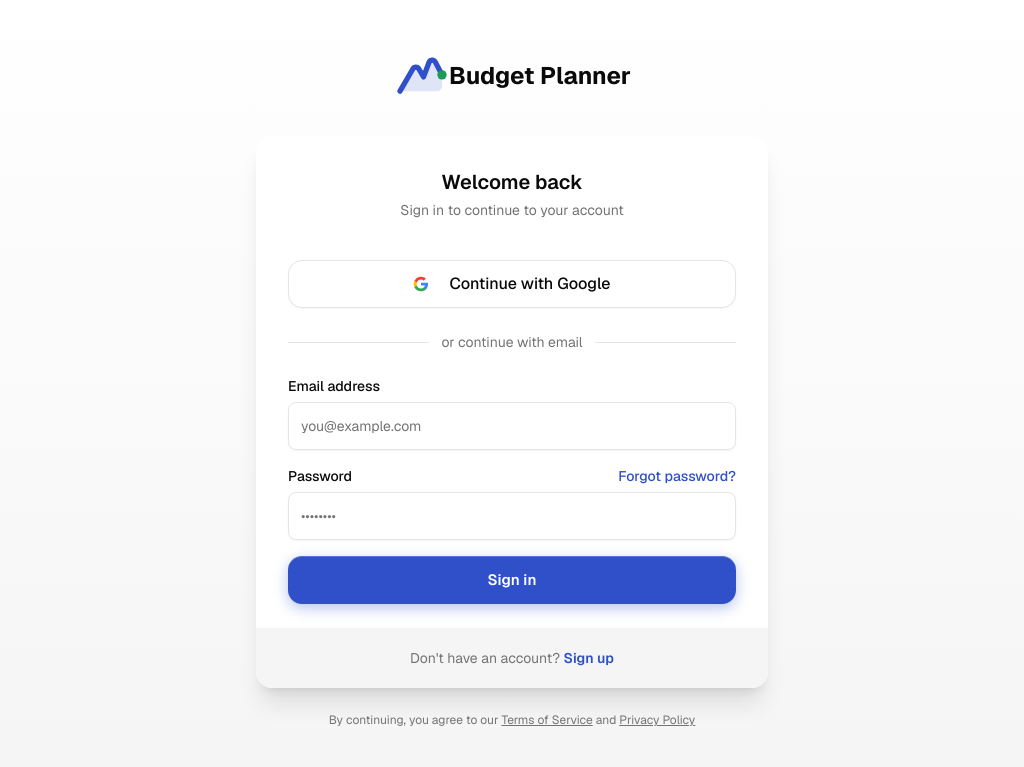
Test case: LoginPage — email signup (handleSubmit, signup mode) › signs up with trimmed names and shows the confirmation message
Click the button "Sign up" at {"x": 589, "y": 658}, box [564, 648, 614, 668]
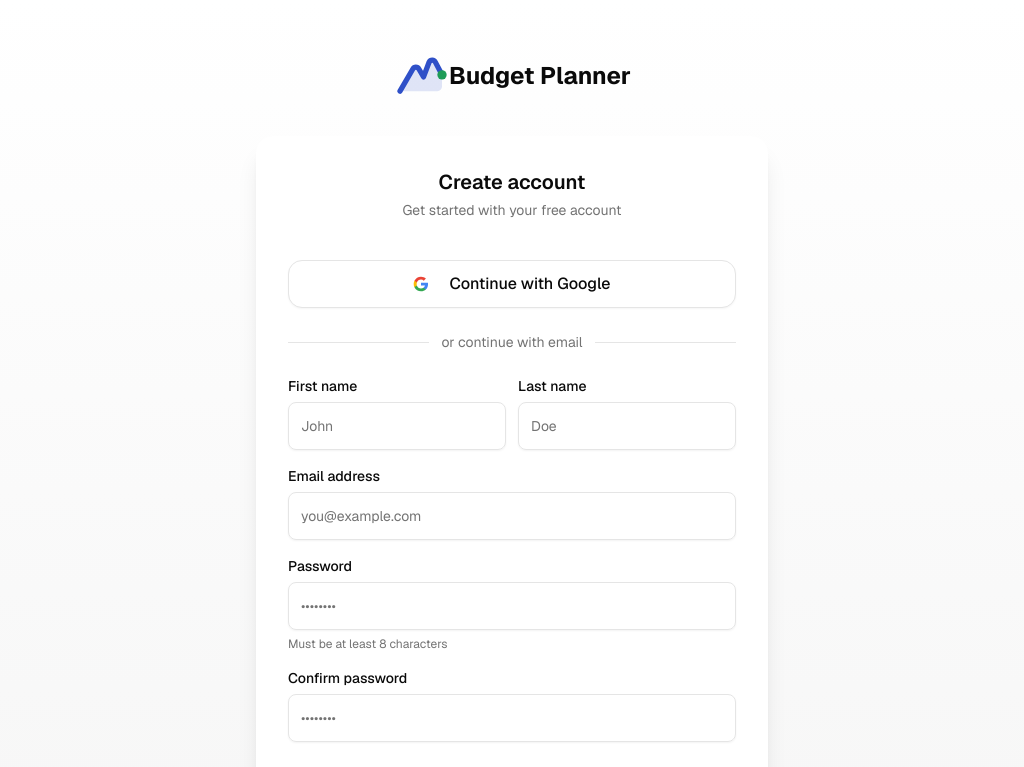
Type "  John  " into the field labelled "First name" at {"x": 397, "y": 426}, box [288, 402, 506, 450]
Type "  Doe  " into the field labelled "Last name" at {"x": 627, "y": 426}, box [518, 402, 736, 450]
Type "john@example.com" into the field labelled "Email address" at {"x": 512, "y": 516}, box [288, 492, 736, 540]
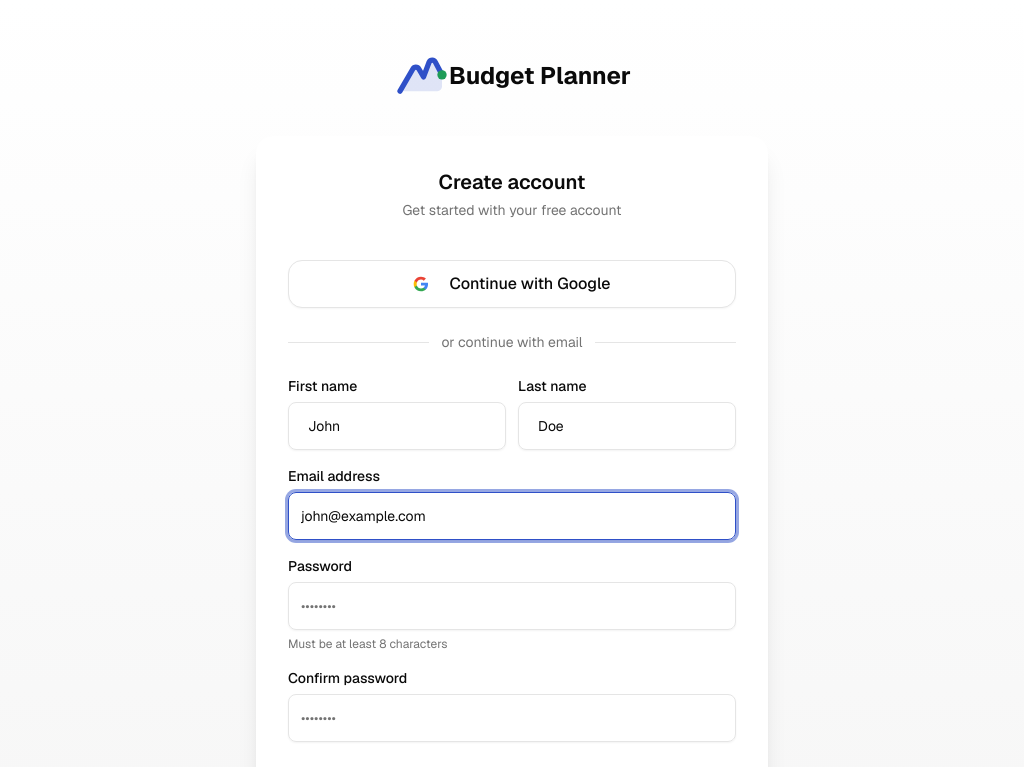
Type "password123" into the password field labelled "Password" at {"x": 512, "y": 606}, box [288, 582, 736, 630]
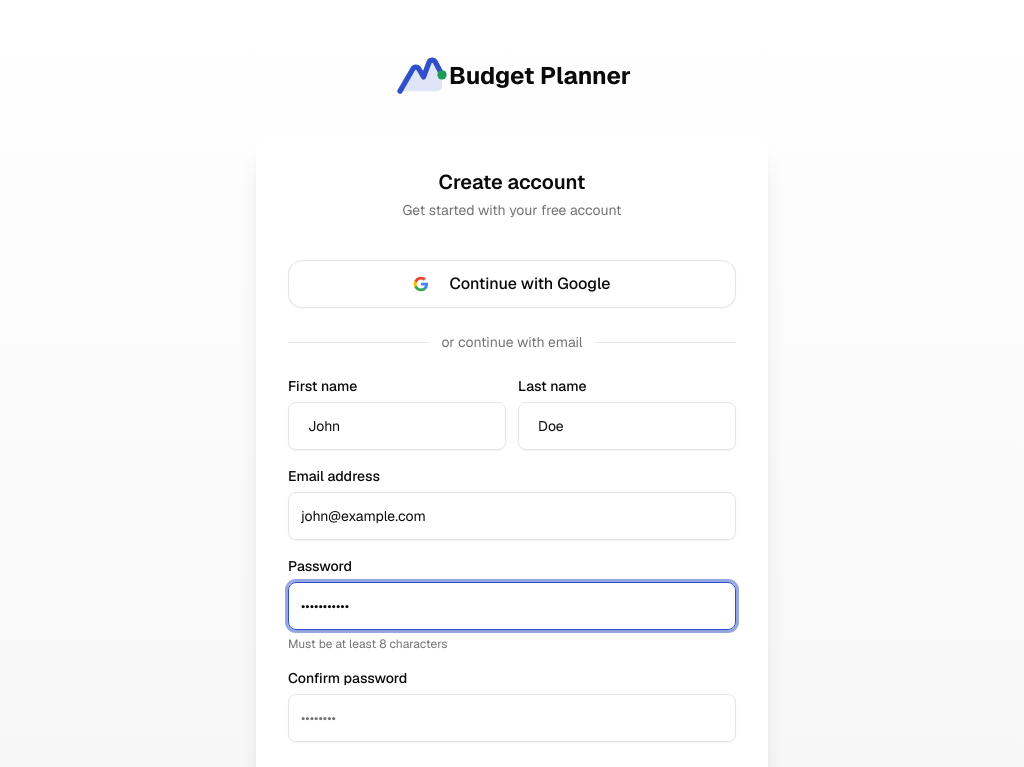
Type "password123" into the password field labelled "Confirm password" at {"x": 512, "y": 718}, box [288, 694, 736, 742]
(page scrolled)
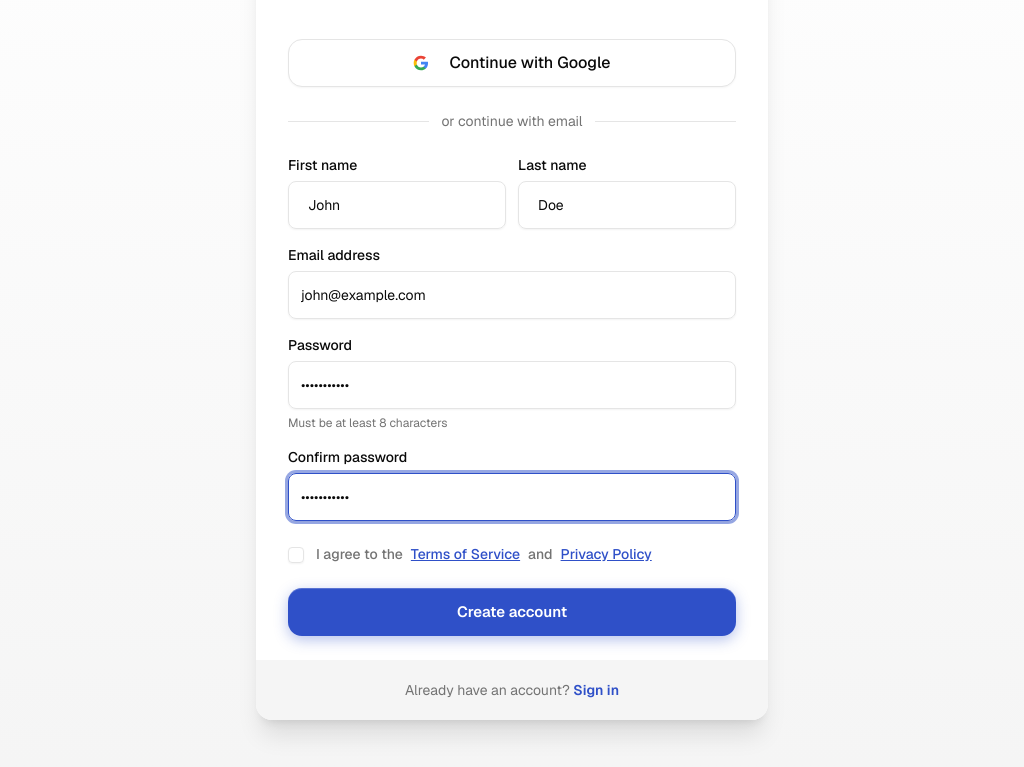
Click the checkbox at {"x": 296, "y": 555}, box [288, 547, 304, 563]
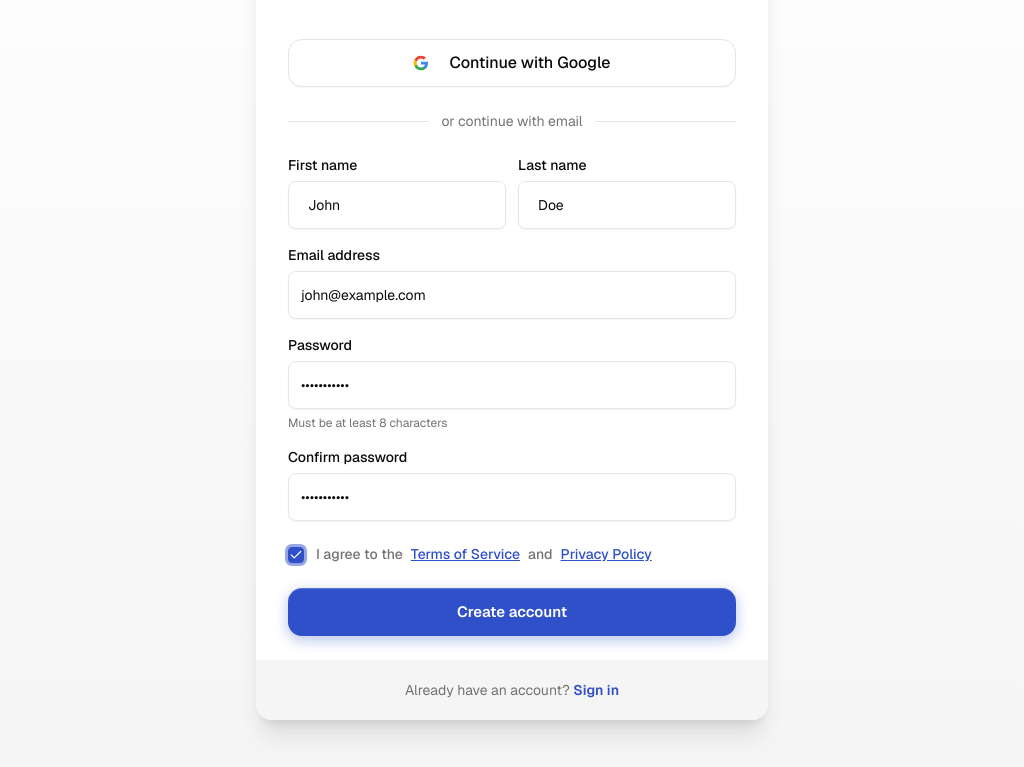
Click the button "Create account" at {"x": 512, "y": 612}, box [288, 588, 736, 636]
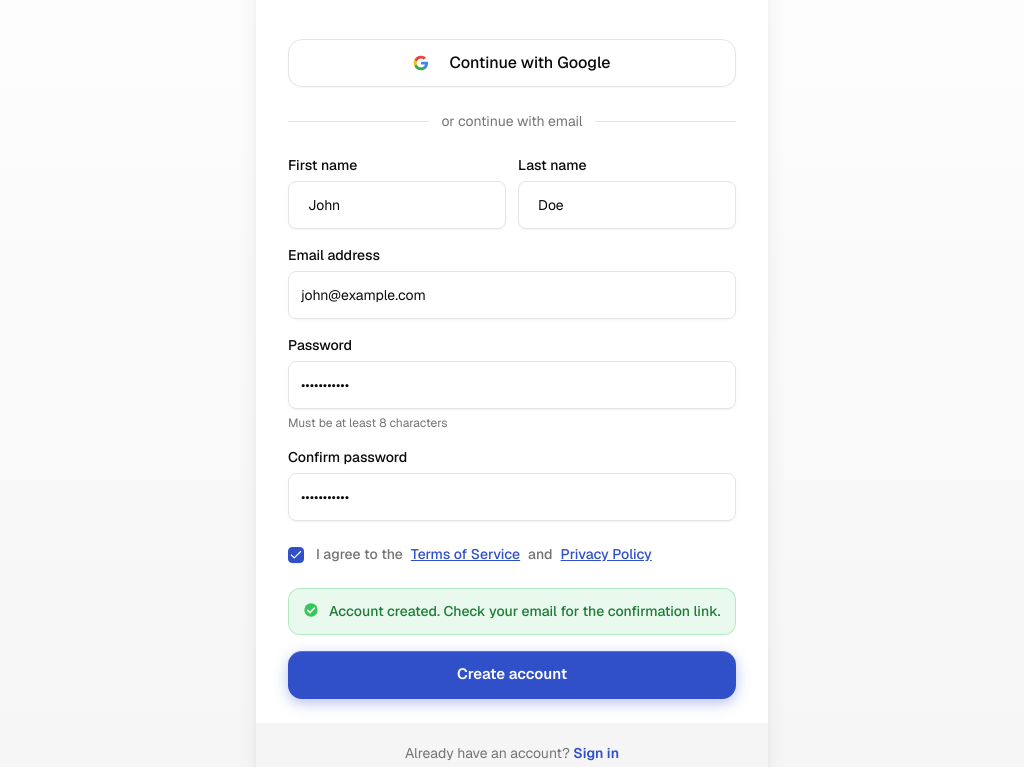
Expected: the message reads "Account created. Check your email for the confirmation link.", [329, 602, 720, 620]
